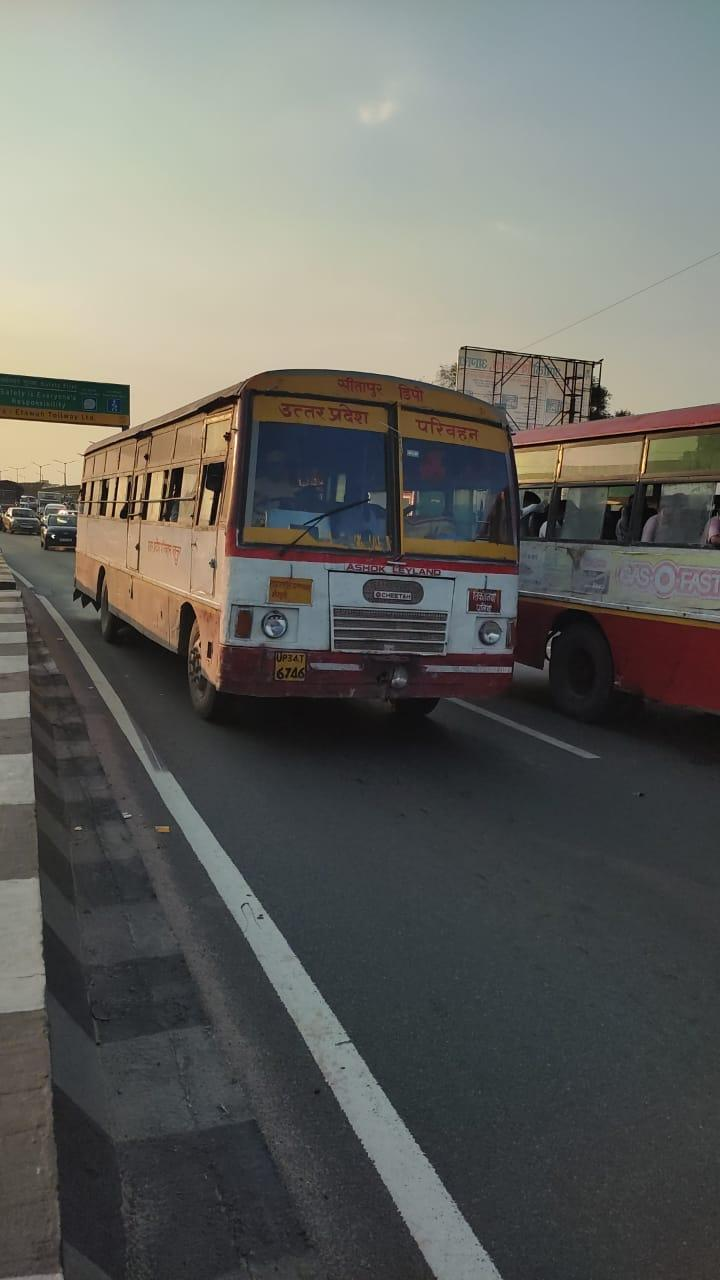Bus: (73, 370, 522, 722)
